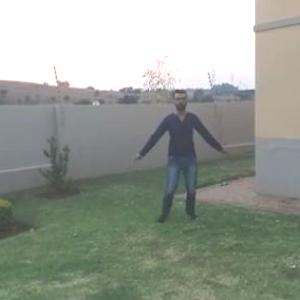land: (121, 88, 224, 220)
